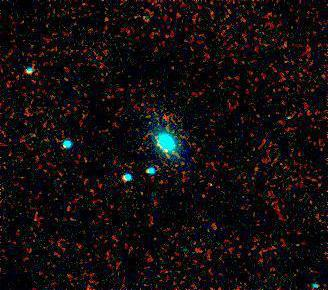star: (272, 105, 302, 135)
